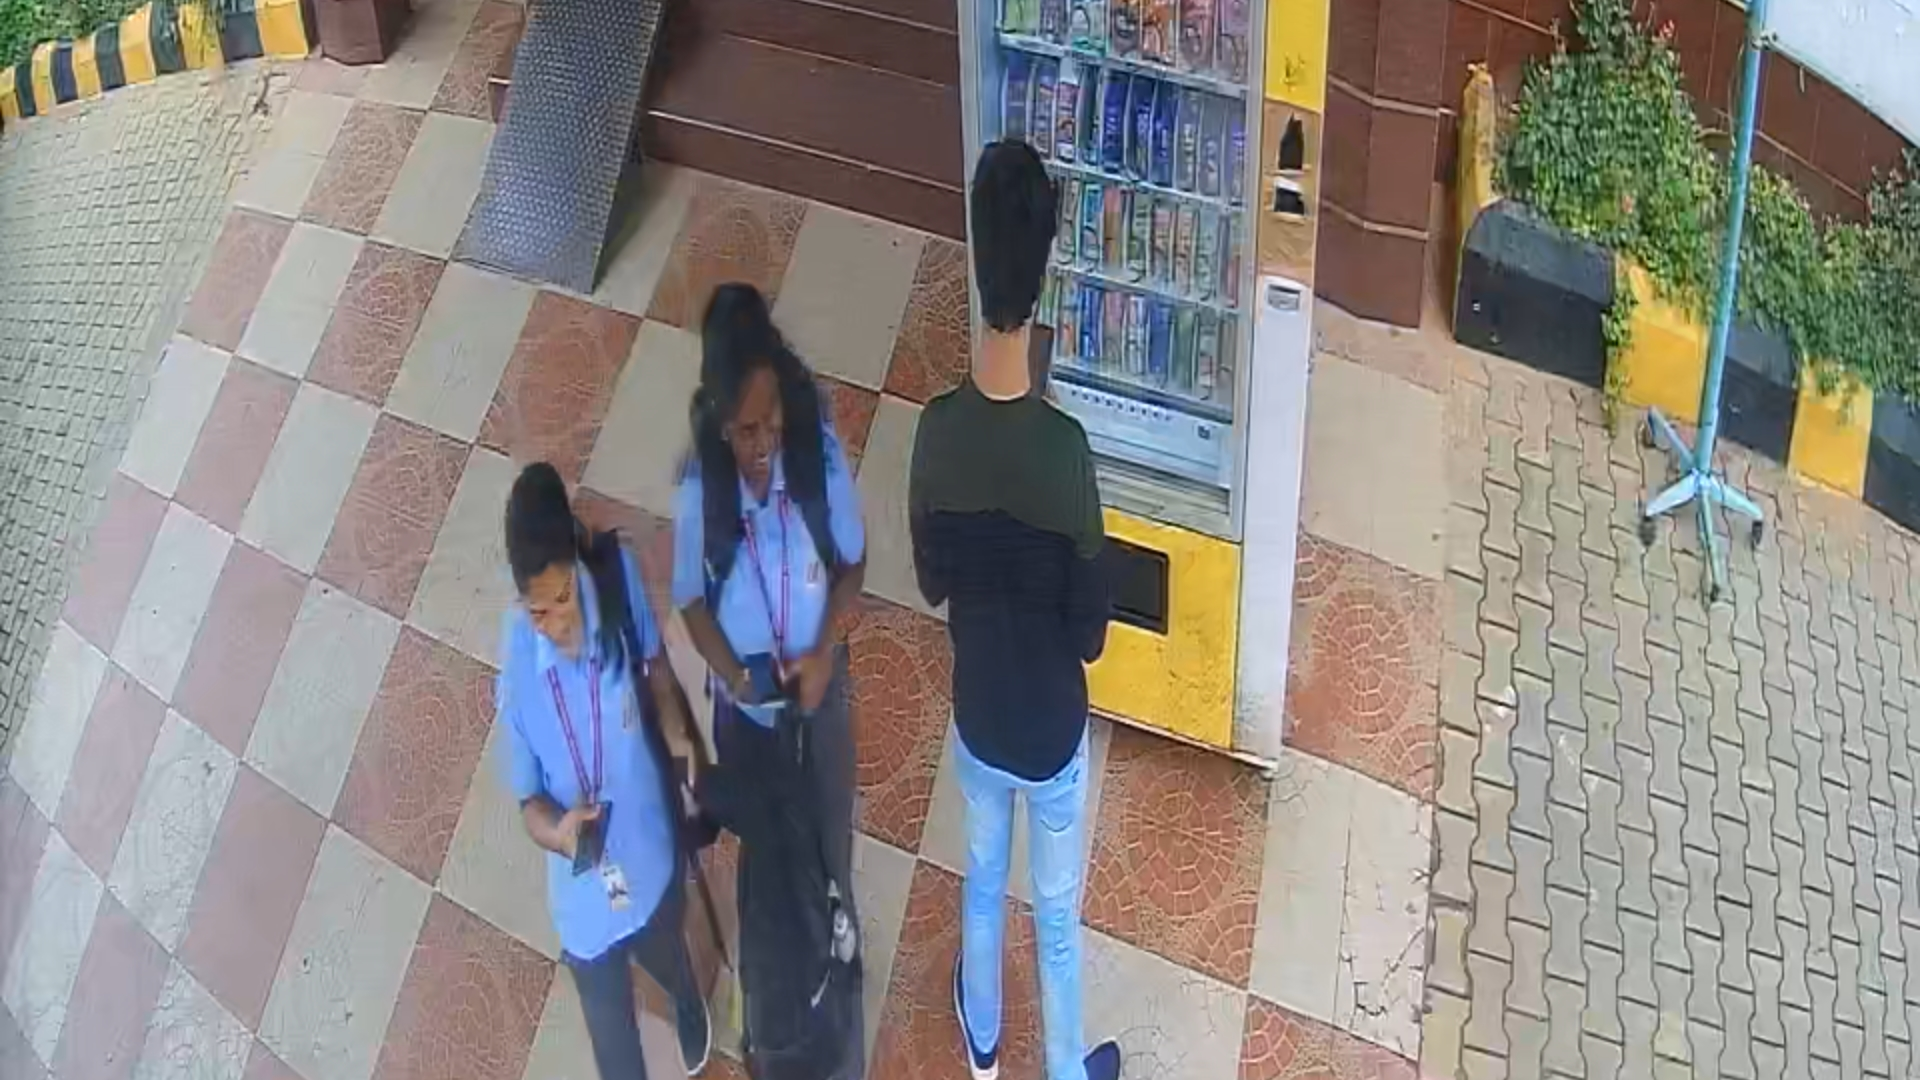not intruder: (683, 307, 899, 1080), (498, 451, 715, 1046)
